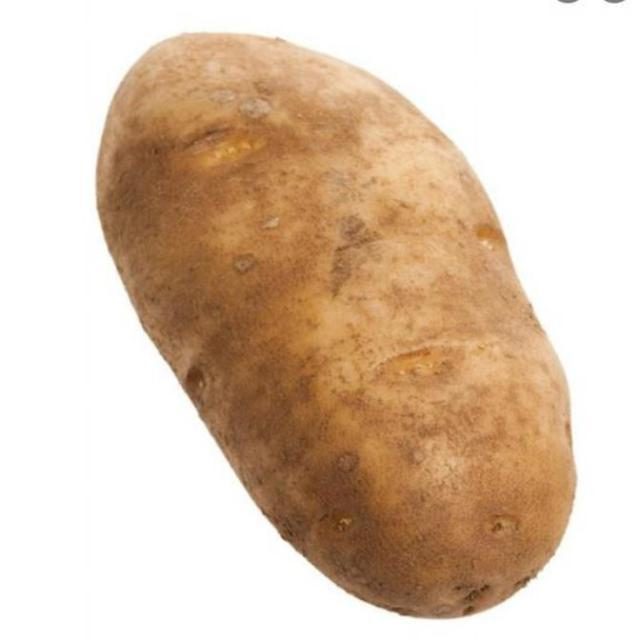Potato: (93, 32, 579, 621)
